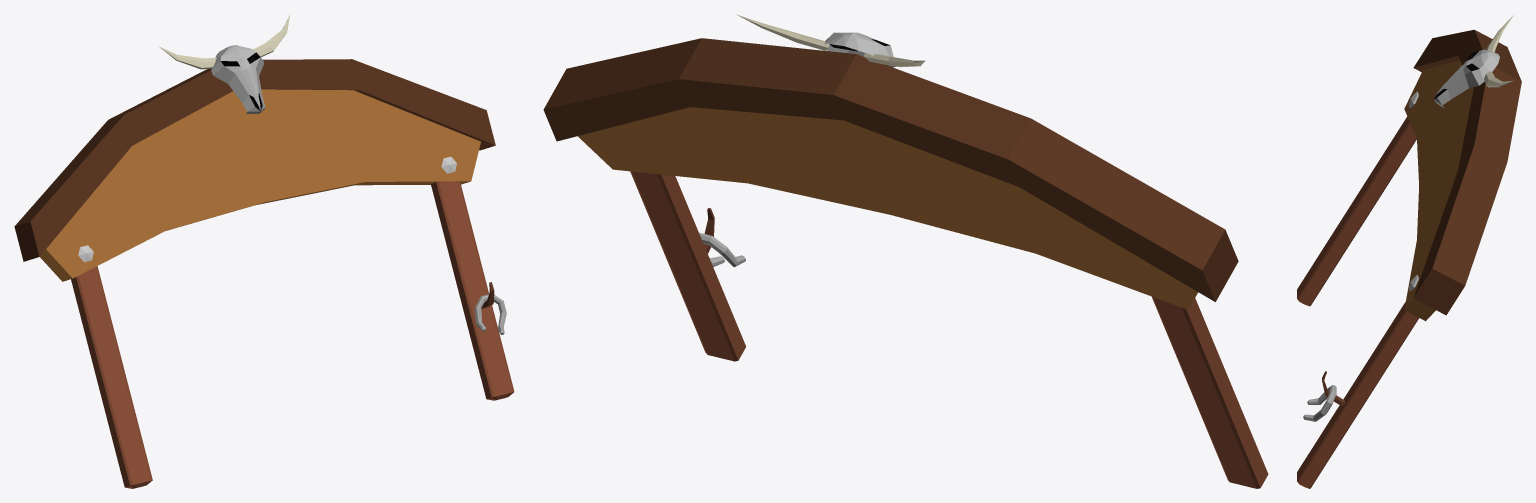
File: CheckPoint.fbx
3 views of the same model, side by side, from view 1: azimuth 30°, elevation 25°; view 2: azimuth 150°, elevation 25°; view 3: azimuth 270°, elevation 25° (orthographic). The views are drawn at different scales.
Parts seen in each view (by area): view 1: Checkpoint; view 2: Checkpoint; view 3: Checkpoint.
Part boxes in pixels (left/top/right/bottom): Checkpoint: left=14, top=14, right=514, bottom=488; Checkpoint: left=543, top=14, right=1268, bottom=488; Checkpoint: left=1297, top=14, right=1521, bottom=488.
Bounding box in the file's own units: 1055 × 747 × 435.
